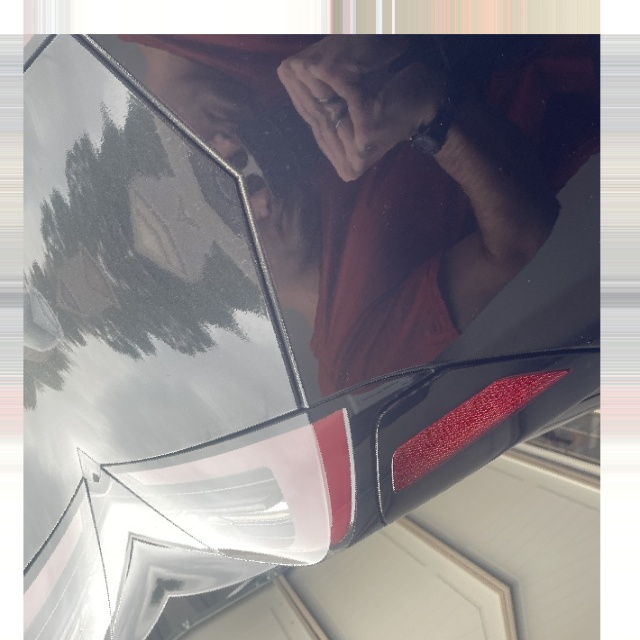reflector: (375, 335, 575, 497)
